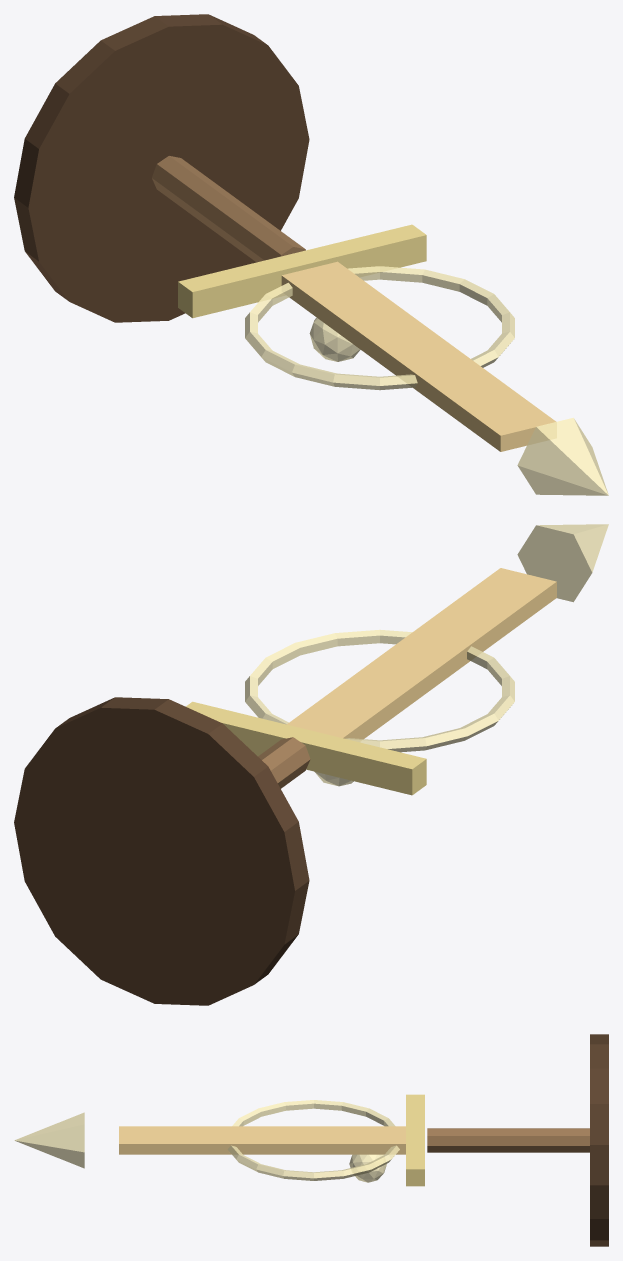
The model's file is 03_high_tier_magic_weapon.glb.
3 views of the same model, one above another, from view 1: azimuth 30°, elevation 25°; view 2: azimuth 150°, elevation 25°; view 3: azimuth 270°, elevation 25° (orthographic). The views are drawn at different scales.
Parts seen in each view (by area): view 1: weapon_display_base, magic_blade_or_staff_core, relic_guard, weapon_aura_ring, weapon_grip, weapon_tip, socketed_gem; view 2: weapon_display_base, magic_blade_or_staff_core, relic_guard, weapon_aura_ring, weapon_tip, weapon_grip; view 3: magic_blade_or_staff_core, weapon_grip, weapon_display_base, weapon_aura_ring, weapon_tip, relic_guard, socketed_gem.
Boxes of the visible parts, bbox=[...] form: weapon_display_base: bbox=[14, 14, 309, 322]; magic_blade_or_staff_core: bbox=[281, 261, 556, 451]; relic_guard: bbox=[178, 224, 426, 318]; weapon_aura_ring: bbox=[245, 266, 514, 390]; weapon_grip: bbox=[152, 156, 305, 262]; weapon_tip: bbox=[517, 417, 608, 495]; socketed_gem: bbox=[309, 317, 360, 361]; weapon_display_base: bbox=[14, 697, 309, 1005]; magic_blade_or_staff_core: bbox=[287, 568, 556, 741]; relic_guard: bbox=[186, 701, 426, 795]; weapon_aura_ring: bbox=[245, 629, 514, 752]; weapon_tip: bbox=[517, 524, 608, 602]; weapon_grip: bbox=[258, 737, 310, 788]; magic_blade_or_staff_core: bbox=[119, 1126, 405, 1154]; weapon_grip: bbox=[427, 1128, 589, 1152]; weapon_display_base: bbox=[590, 1034, 608, 1246]; weapon_aura_ring: bbox=[227, 1100, 399, 1180]; weapon_tip: bbox=[14, 1112, 84, 1168]; relic_guard: bbox=[406, 1094, 424, 1186]; socketed_gem: bbox=[349, 1154, 386, 1182].
Bounding box in the file's own units: 0.9 × 0.9 × 2.52.
